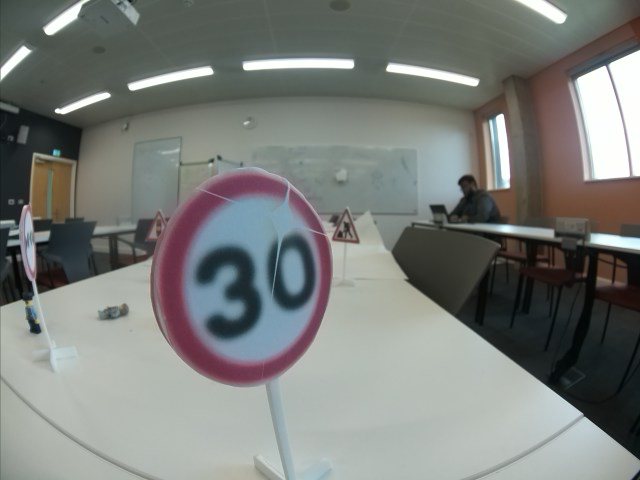30mph: (150, 167, 333, 393)
6ft6: (17, 203, 42, 281)
Lego Man: (21, 292, 43, 334), (96, 303, 131, 319)
Roadworks: (332, 207, 361, 244)
Traffic lights: (145, 209, 169, 240)
